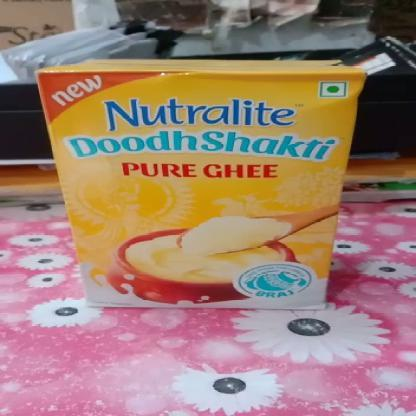Nutralite DOODHSHAKTHI PURE GHEE 1L: (79, 60, 326, 307)
